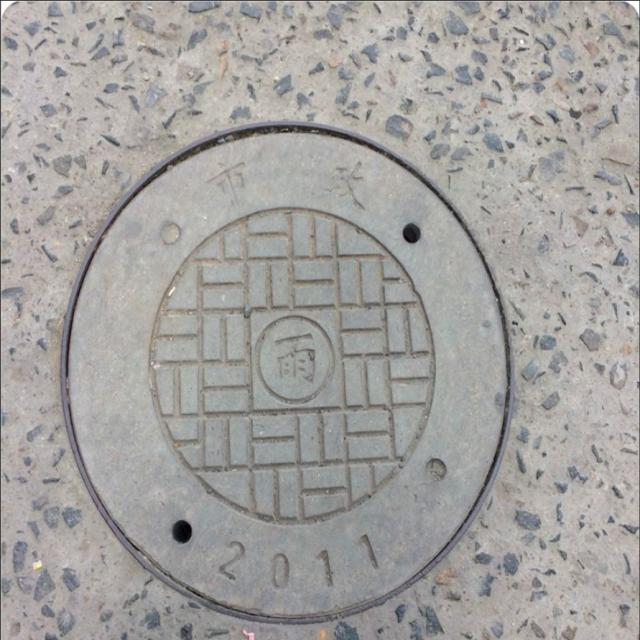manhole: (64, 124, 510, 621)
